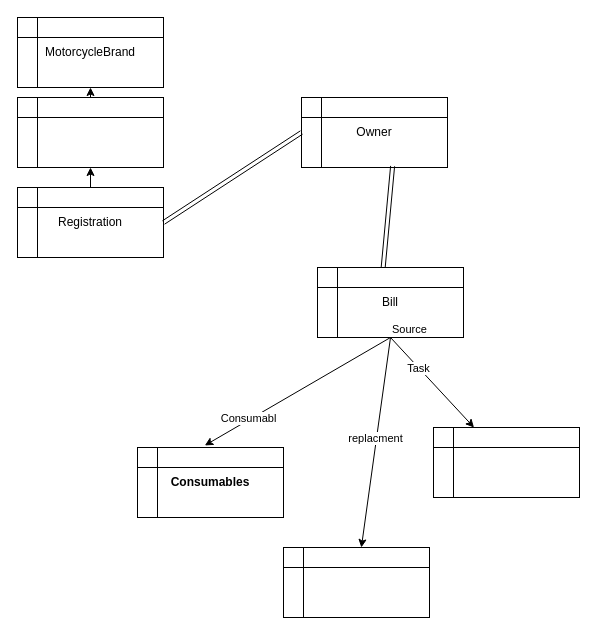
Image size: 597x635. Some labels were removed from this diagram. The shapes that lost their labels are listed below. From the top down, each one's centre as x and y in pixels, then its label:
At point 90,132: "MotorcycleModel".
At point 506,462: "Labor".
At point 356,582: "Spare parts".
